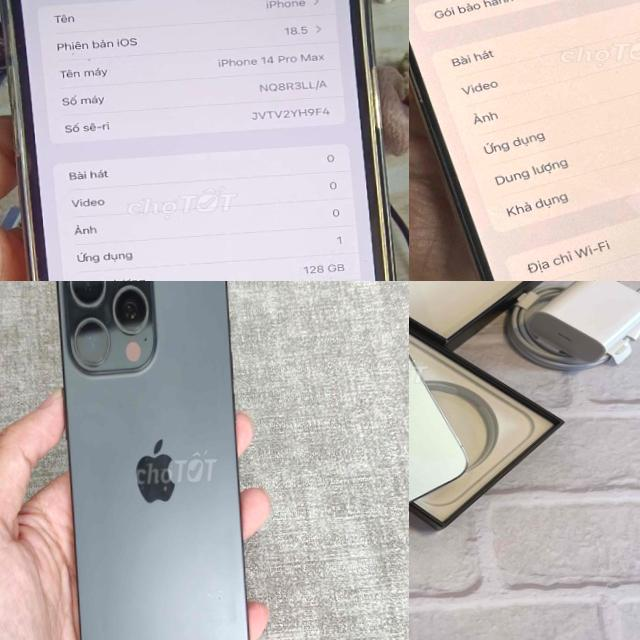gen_12_13: (409, 281, 475, 536)
gen_14: (3, 0, 407, 281)
gen_15: (34, 281, 265, 640), (409, 0, 640, 281)
